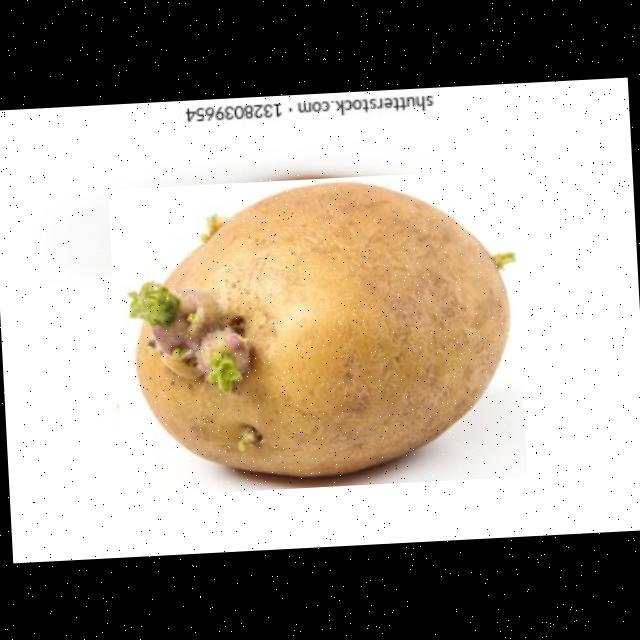Sprouted potato: (106, 168, 526, 497)
